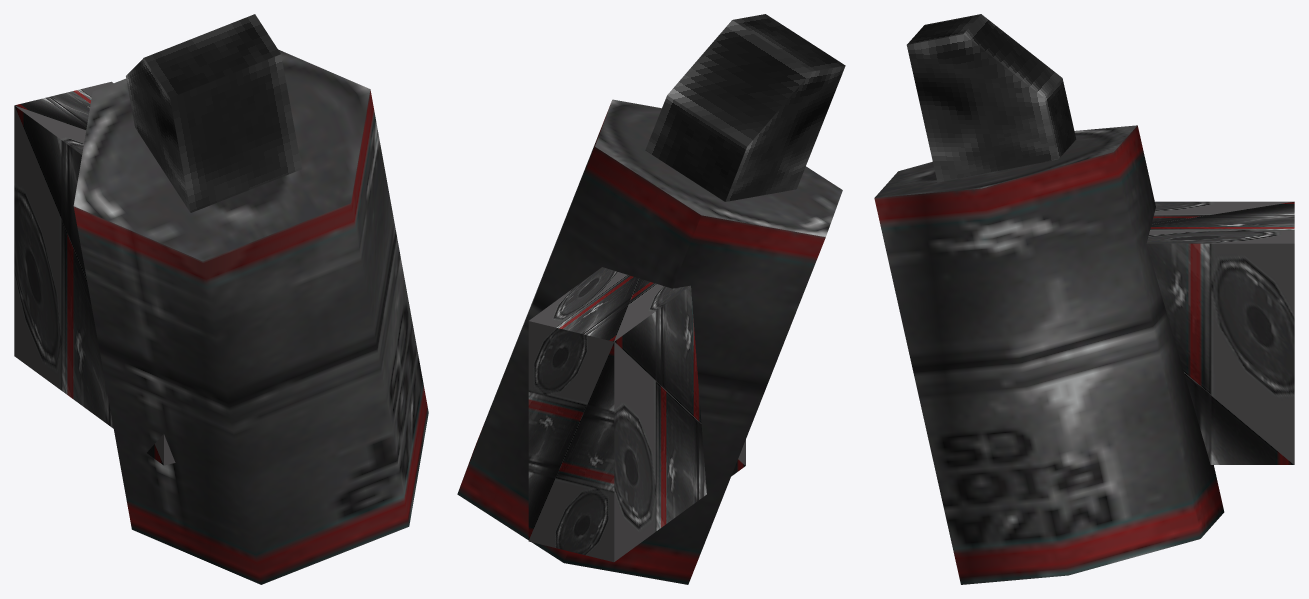
File: hegrenade-world.glb
The picture shows the model from 3 angles, left to right: view 1: azimuth 30°, elevation 25°; view 2: azimuth 150°, elevation 25°; view 3: azimuth 270°, elevation 25°; orthographic projection. The views are drawn at different scales.
Parts seen in each view (by area): view 1: hegrenade held; view 2: hegrenade held; view 3: hegrenade held.
Boxes of the visible parts, box(x1,y1,x2,y2) form: hegrenade held: box(14, 14, 428, 584); hegrenade held: box(457, 14, 845, 584); hegrenade held: box(874, 14, 1294, 584).
Bounding box in the file's own units: 0.124 × 0.1836 × 0.1355.
2 materials, 2 textured.
